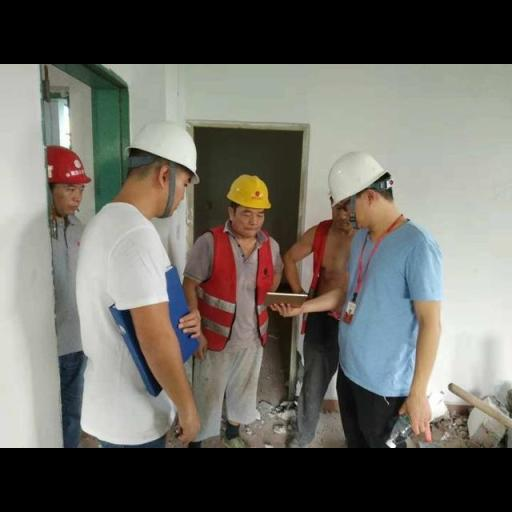Person: (85, 104, 203, 450), (321, 140, 446, 448), (190, 172, 293, 446), (29, 122, 100, 392)
helmet: (122, 110, 203, 190), (320, 146, 396, 220), (35, 135, 98, 195), (222, 169, 279, 217)
none: (78, 199, 188, 434), (343, 223, 443, 399), (45, 210, 90, 369)
vest: (192, 222, 282, 364), (302, 203, 366, 344)
